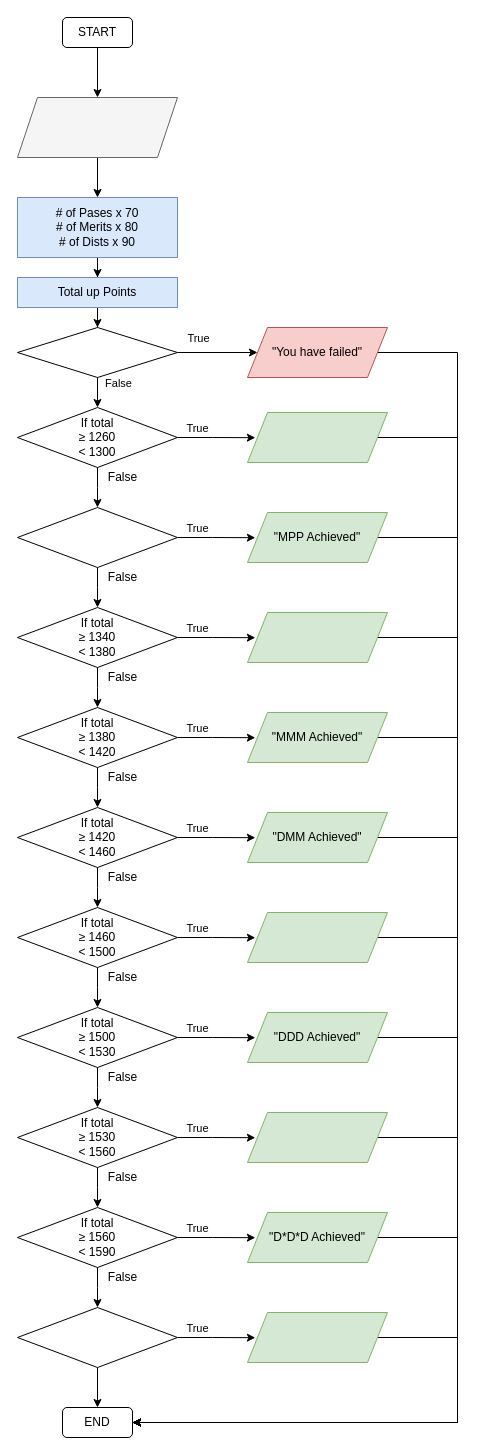
Some shapes in this 483 by 1455 pixel diagram are drawn without their labels. Here are the shapes that lost their labels. From the top down, the centre of each, then its label:
point 97,127: Input: # of Passes # of Merits # of Dists
point 97,352: If total < 1260
point 317,437: "PPP Achieved"
point 97,537: If total ≥ 1300 < 1340
point 317,637: "MMP Achieved"
point 317,937: "DDM Achieved"
point 317,1137: "D*DD Achieved"
point 97,1337: If total ≥ 1590
point 317,1337: "D*D*D* Achieved"
